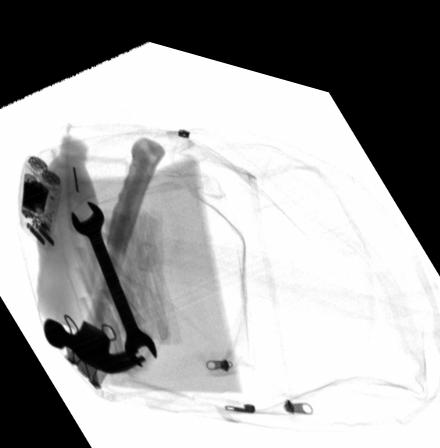Hammer: (42, 130, 166, 366)
Wrench: (70, 194, 156, 360)
